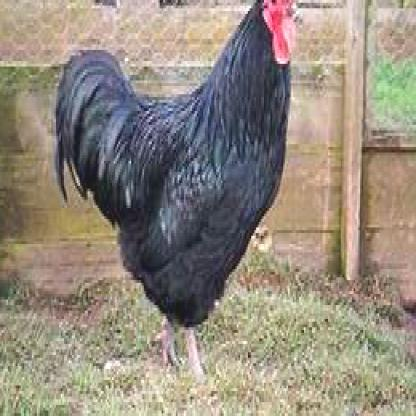chicken: (53, 0, 299, 369)
